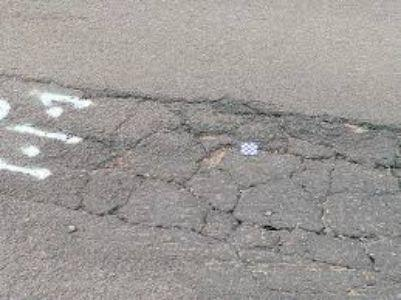alligator-crack: (6, 53, 401, 269)
